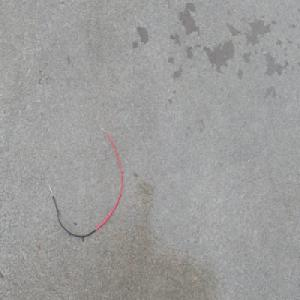Wire: (47, 124, 124, 239)
